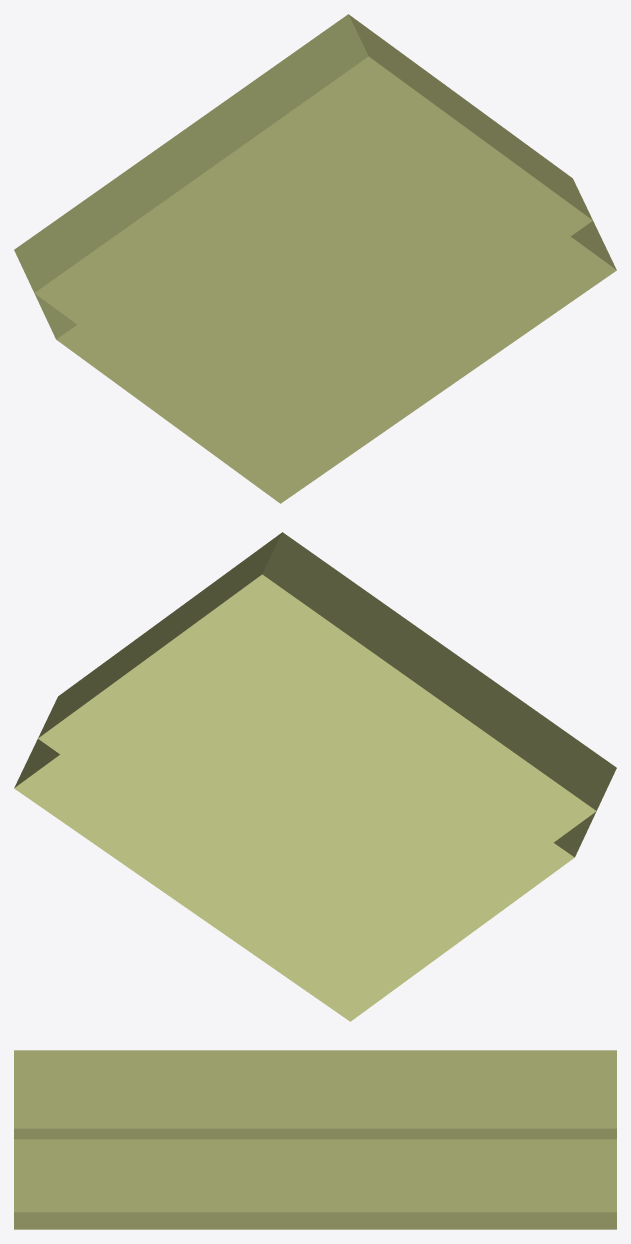
3 renders of one model, top to bottom at view 1: azimuth 30°, elevation 25°; view 2: azimuth 150°, elevation 25°; view 3: azimuth 270°, elevation 25°, orthographic. The views are drawn at different scales.
Parts seen in each view (by area): view 1: 0_1_1_3_3_1_2_2_2; view 2: 0_1_1_3_3_1_2_2_2; view 3: 0_1_1_3_3_1_2_2_2.
Boxes of the visible parts, bbox=[...] form: 0_1_1_3_3_1_2_2_2: bbox=[14, 14, 616, 503]; 0_1_1_3_3_1_2_2_2: bbox=[14, 532, 616, 1021]; 0_1_1_3_3_1_2_2_2: bbox=[14, 1050, 616, 1229].
Bounding box in the file's own units: 5.84 × 3.75 × 6.
